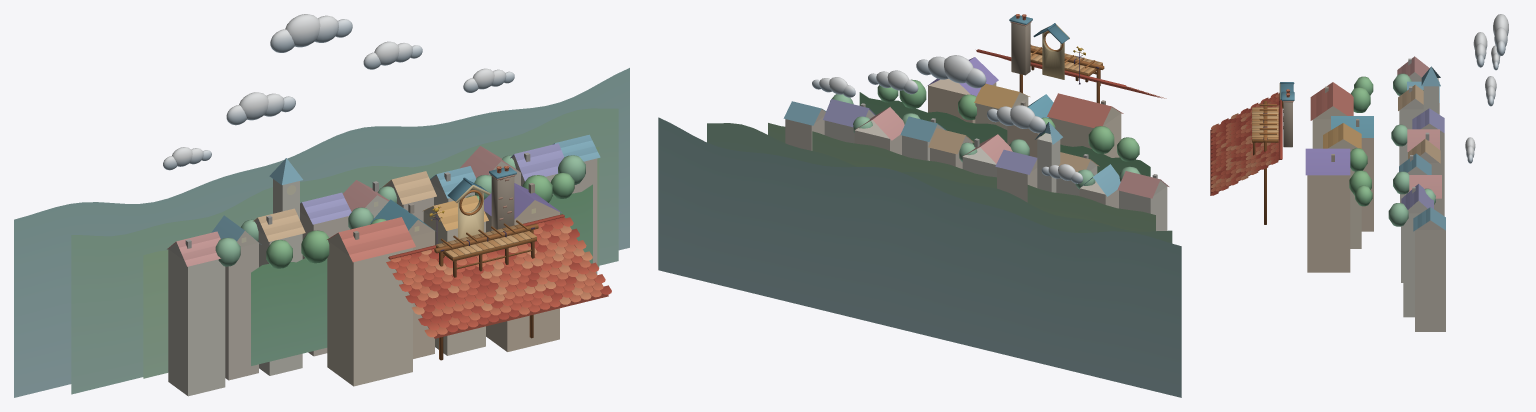
Rendered from place_float.glb.
The picture shows the model from 3 angles, left to right: view 1: azimuth 30°, elevation 25°; view 2: azimuth 150°, elevation 25°; view 3: azimuth 270°, elevation 25°; orthographic projection. The views are drawn at different scales.
Parts seen in each view (by area): view 1: p_far, p_roof, p_trees, p_deck, p_near, cloud3, cloud0, p_beam, cloud1, cloud2, p_wall, cloud4; view 2: p_far, p_trees, p_near, cloud3, cloud0, p_deck, cloud1, p_wall, cloud2, p_beam, cloud4; view 3: p_far, p_roof, p_trees, p_deck, p_near, p_beam, cloud3, cloud0, cloud1.
Boxes of the visible parts, box(x1,y1,x2,y2) form: p_far: box(14, 68, 629, 397); p_roof: box(386, 217, 611, 338); p_trees: box(215, 155, 585, 268); p_deck: box(388, 214, 564, 277); p_near: box(431, 166, 516, 243); cloud3: box(270, 14, 352, 52); cloud0: box(226, 92, 295, 125); p_beam: box(434, 220, 538, 360); cloud1: box(363, 41, 422, 69); cloud2: box(463, 68, 514, 92); p_wall: box(458, 187, 483, 238); cloud4: box(163, 147, 211, 170); p_far: box(658, 57, 1181, 397); p_trees: box(830, 79, 1140, 189); p_near: box(1009, 14, 1084, 84); cloud3: box(916, 55, 986, 88); cloud0: box(987, 105, 1045, 133); p_deck: box(976, 45, 1126, 87); cloud1: box(868, 70, 918, 94); p_wall: box(1042, 30, 1064, 79); cloud2: box(812, 77, 855, 97); p_beam: box(1019, 44, 1104, 103); cloud4: box(1041, 164, 1082, 183); p_far: box(1305, 56, 1445, 331); p_roof: box(1210, 92, 1279, 195); p_trees: box(1349, 73, 1435, 226); p_deck: box(1252, 93, 1282, 159); p_near: box(1279, 82, 1294, 147); p_beam: box(1259, 101, 1276, 224); cloud3: box(1493, 14, 1508, 55); cloud0: box(1473, 32, 1487, 67); cloud1: box(1485, 76, 1496, 106).
Bounding box in the file's own units: 54 × 27.26 × 30.36.
